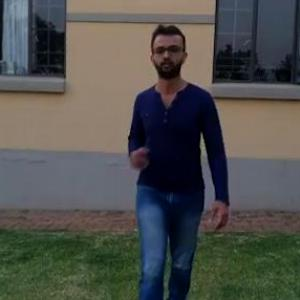follow: (127, 18, 234, 299)
